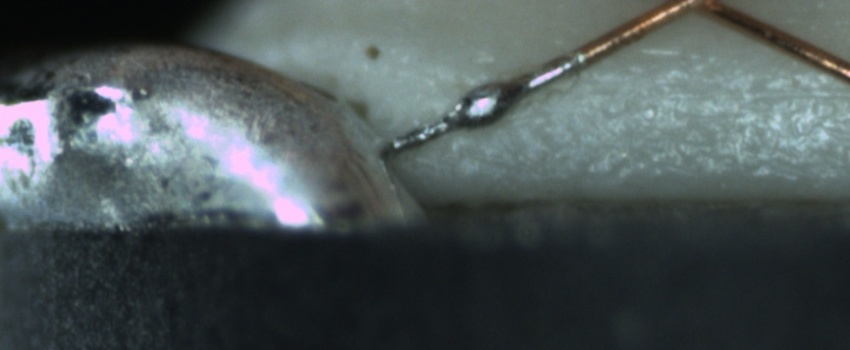CL: (652, 0, 738, 22)
DL: (551, 60, 850, 124)
TB: (455, 75, 518, 129)
TS: (388, 49, 583, 151)
TTCW: (380, 26, 620, 153)
